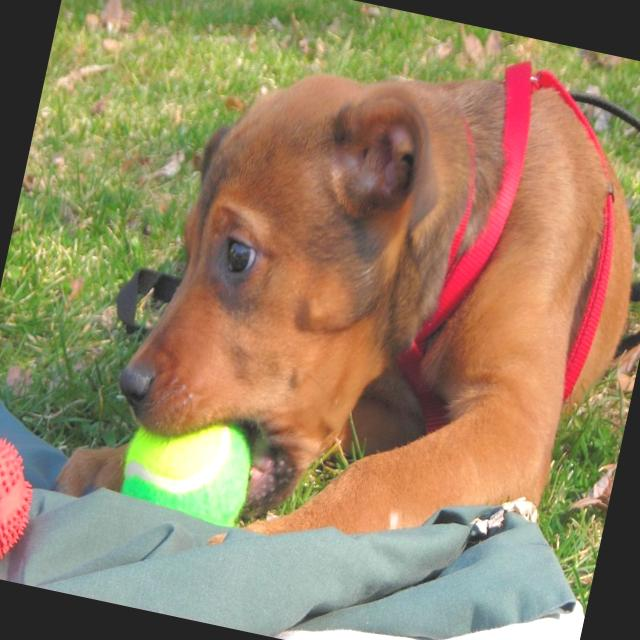Tennis ball: (116, 401, 262, 528)
